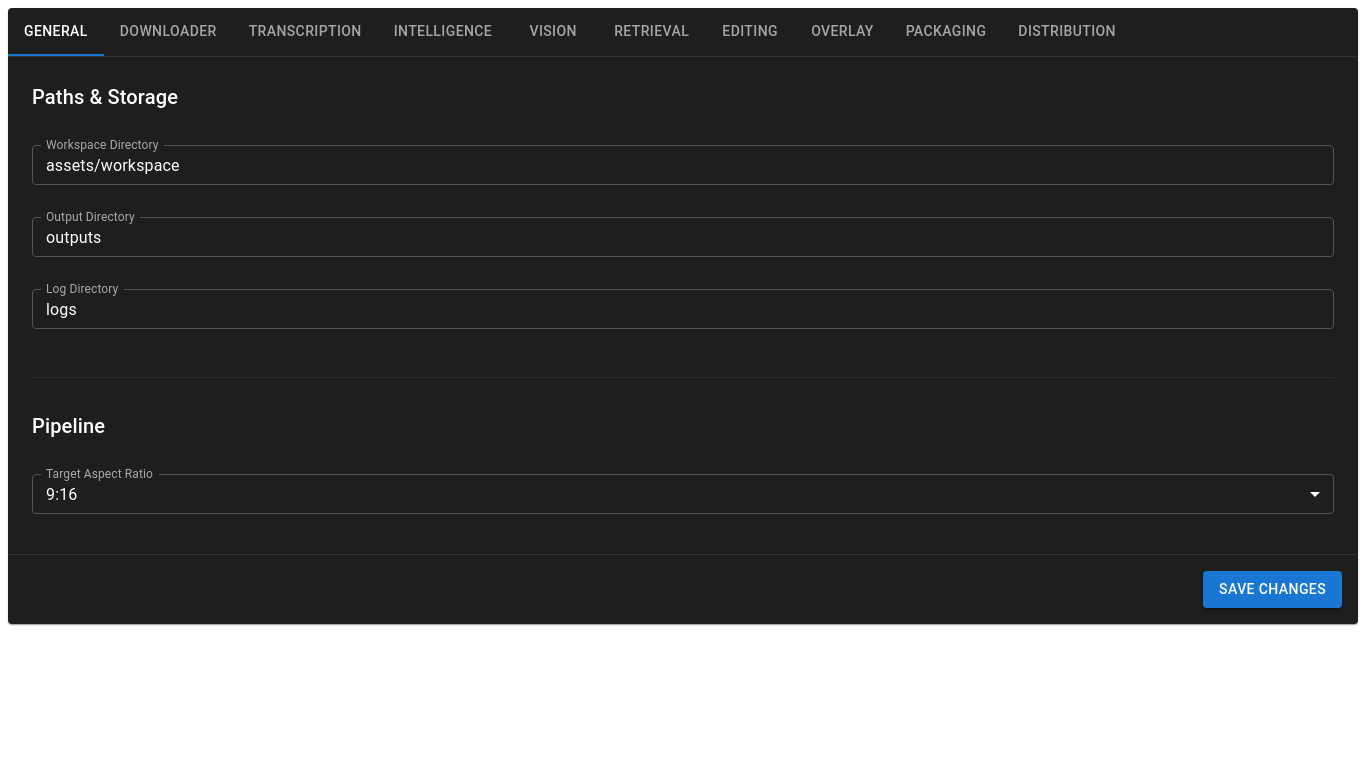
Test: SettingsView Component › renders select inputs for resolution
# Switch to Downloader tab
Click the tab "Downloader" at [168, 32], box [104,8,233,56]
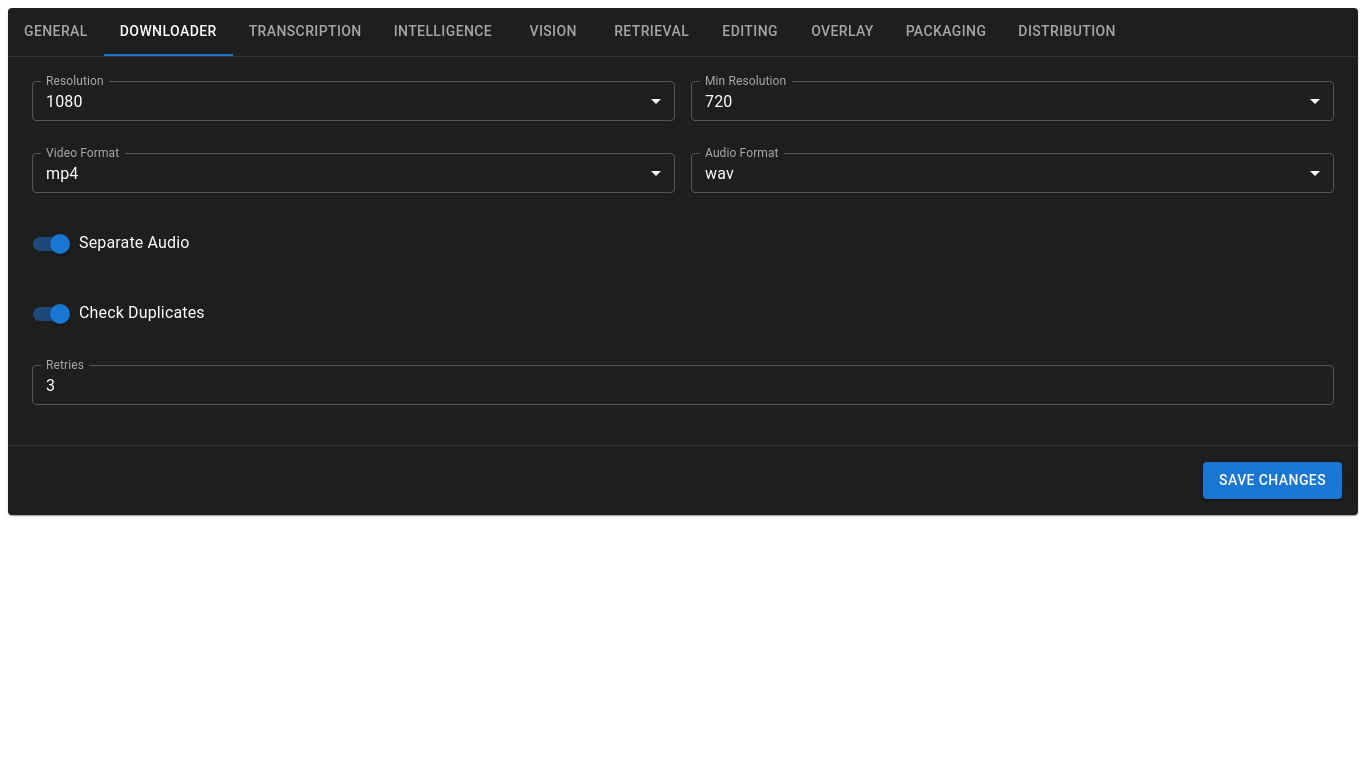
Expected: the dropdown named "Resolution" is shown
# If it's a select, we should be able to change it
Press the mouse on the dropdown named "Resolution" at [64, 101], box [46,92,83,110]
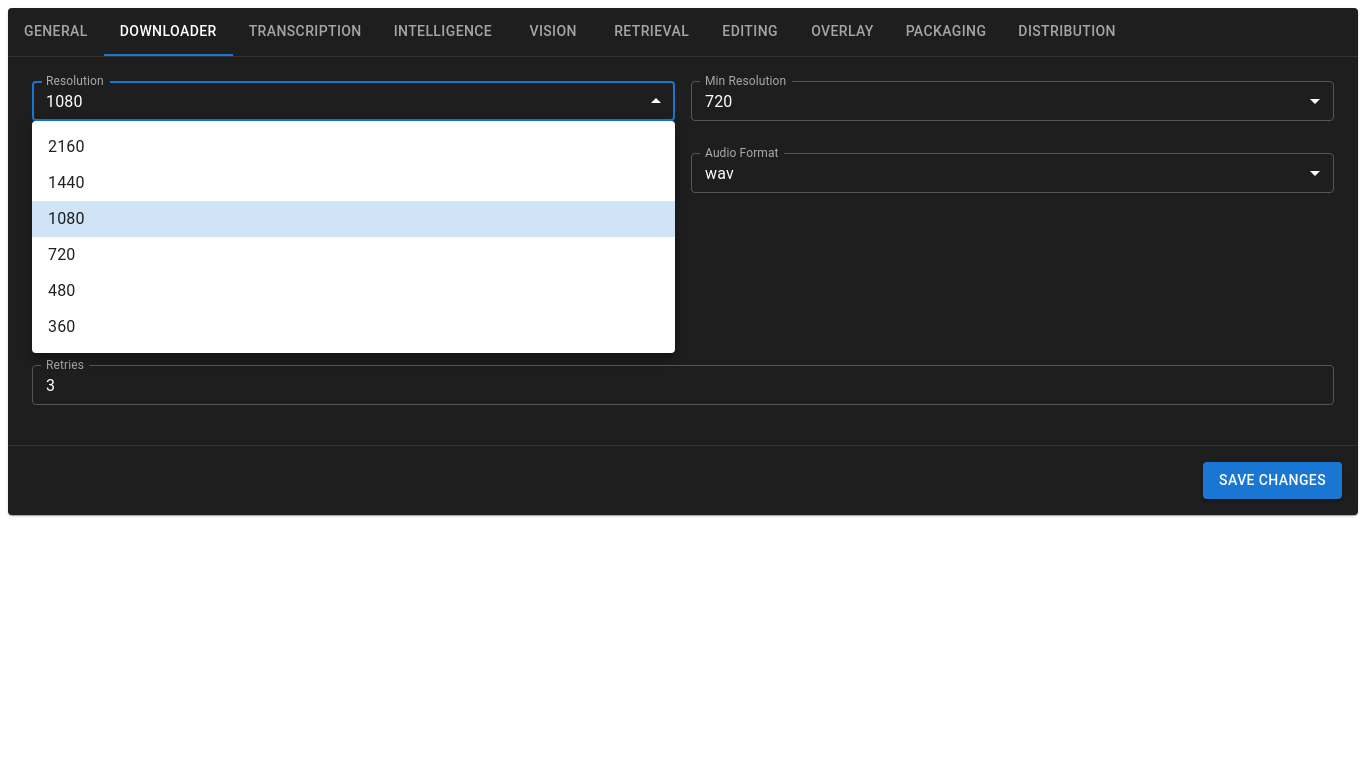
Click the option "720" at [62, 254], box [48,245,75,264]
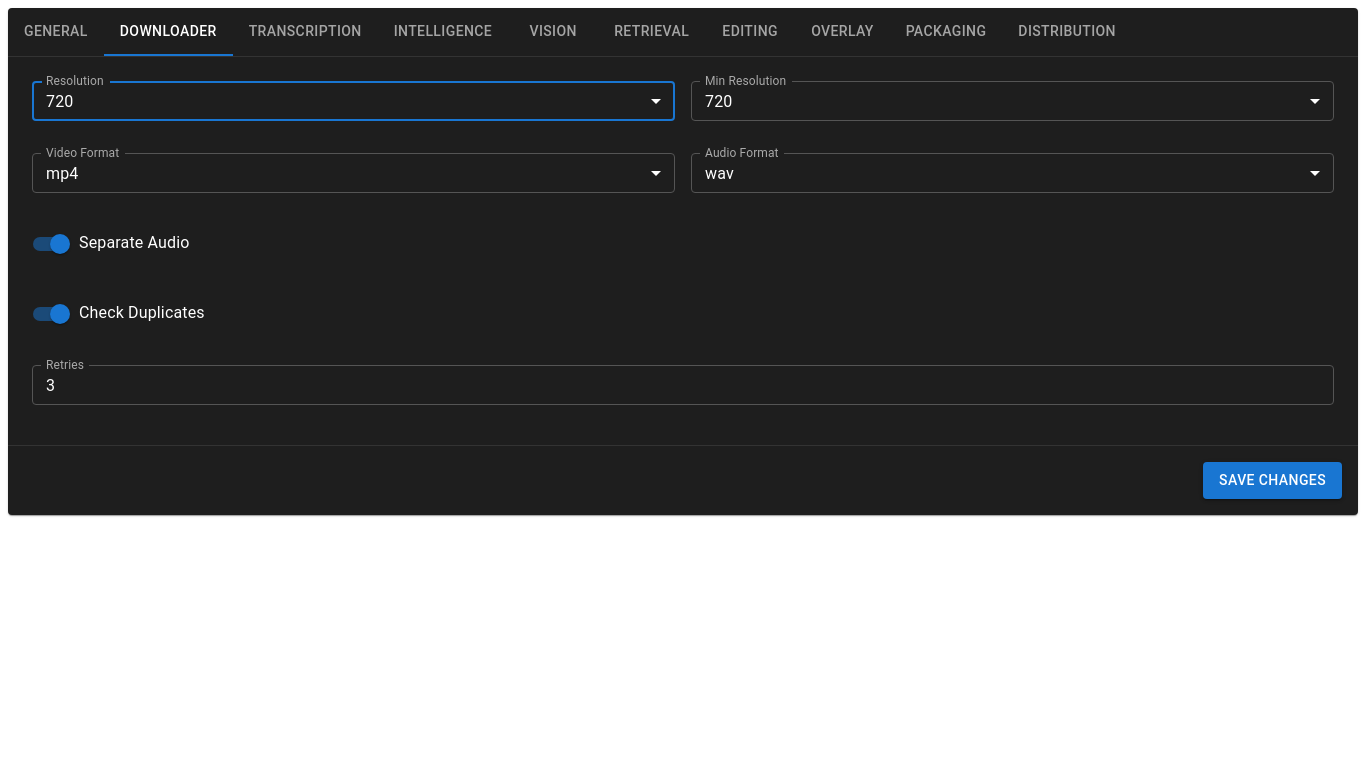
Expected: the dropdown named "Resolution" reads "720", [46,92,73,110]
